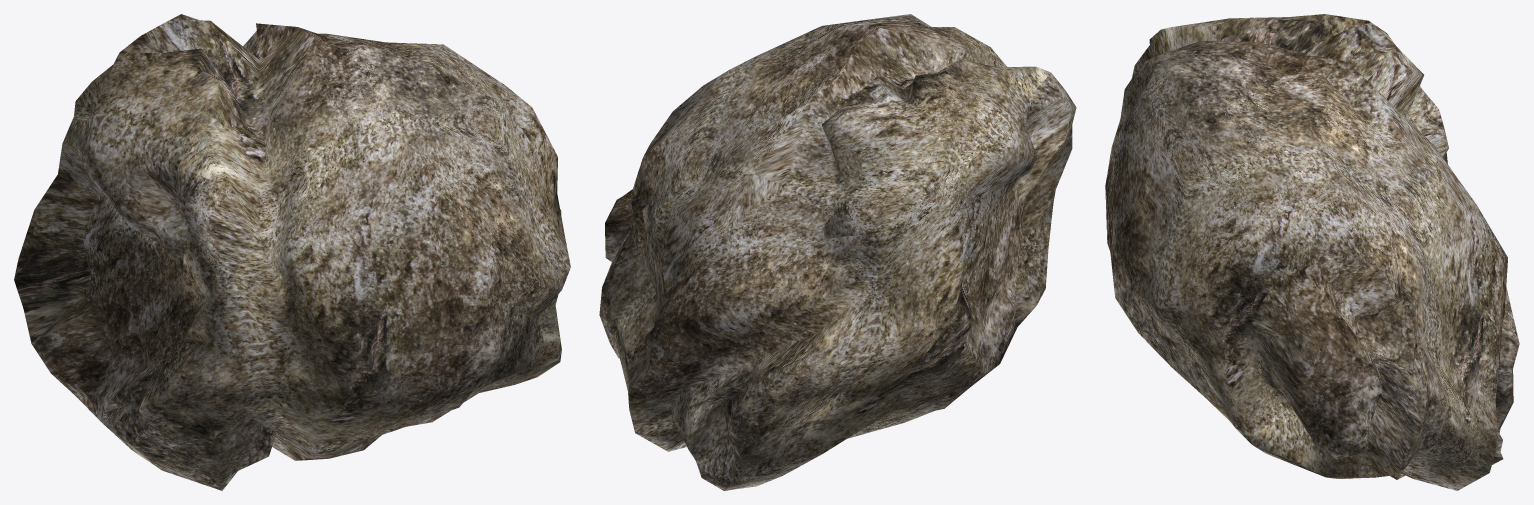
Rendered from Asteroid_10_L1.FBX.
3 renders of one model, left to right at view 1: azimuth 30°, elevation 25°; view 2: azimuth 150°, elevation 25°; view 3: azimuth 270°, elevation 25°, orthographic. The views are drawn at different scales.
Parts seen in each view (by area): view 1: Asteroid; view 2: Asteroid; view 3: Asteroid.
Part boxes in pixels (x1,y1,x2,y2): Asteroid: (14, 14, 570, 490); Asteroid: (599, 14, 1076, 490); Asteroid: (1105, 14, 1519, 490).
Size of the model in its own units: 2.36 by 2.35 by 2.15.
